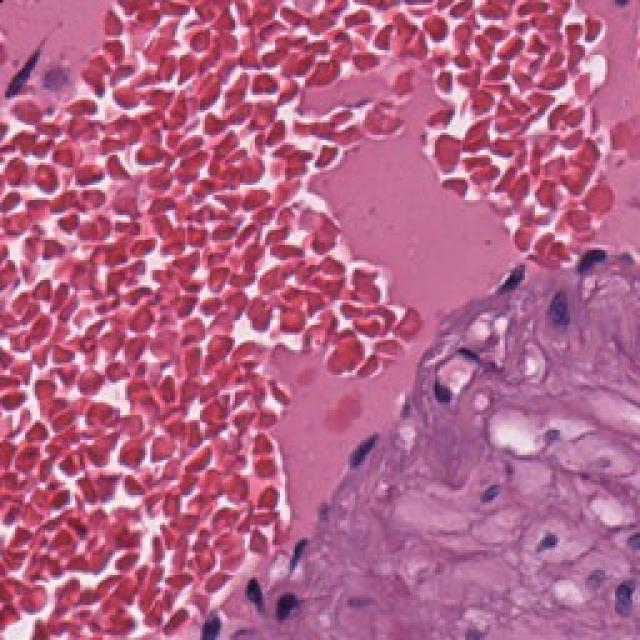normal: (262, 518, 350, 600), (487, 229, 564, 319), (566, 212, 625, 313), (180, 593, 276, 640), (333, 403, 387, 485)
